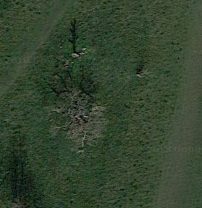tree: (50, 90, 121, 155)
